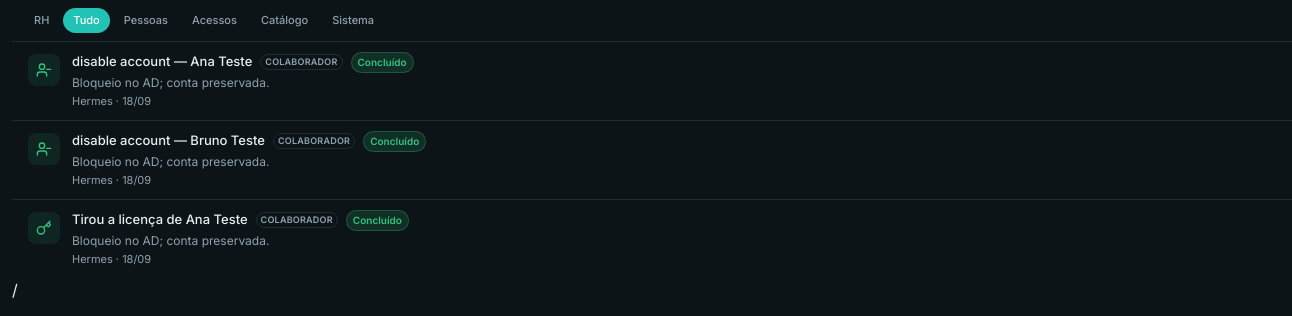
it: Individual activity fixtures (not production data) › preserves separate people and removes only identical source/id duplicates
expect the number of list items is 3: met, box [28,52,414,108]; [12,120,1291,198]; [12,198,1291,278]
expect the text "disable account — Ana Teste" is shown 2 times: met, box [72,52,252,72]; [72,210,248,230]
Click the text "disable account — Bruno Teste" at (168, 141), box [72,131,265,151]
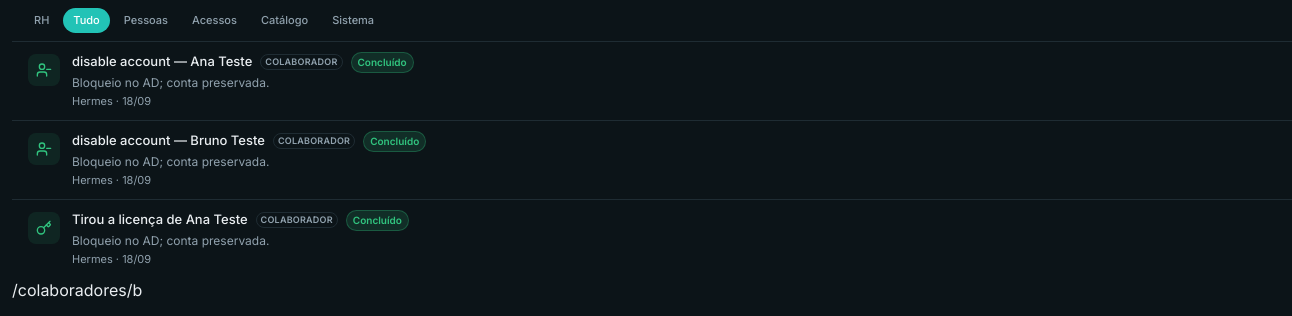
expect the text with test id "location" reads "/colaboradores/b": met, box [12,280,142,300]
